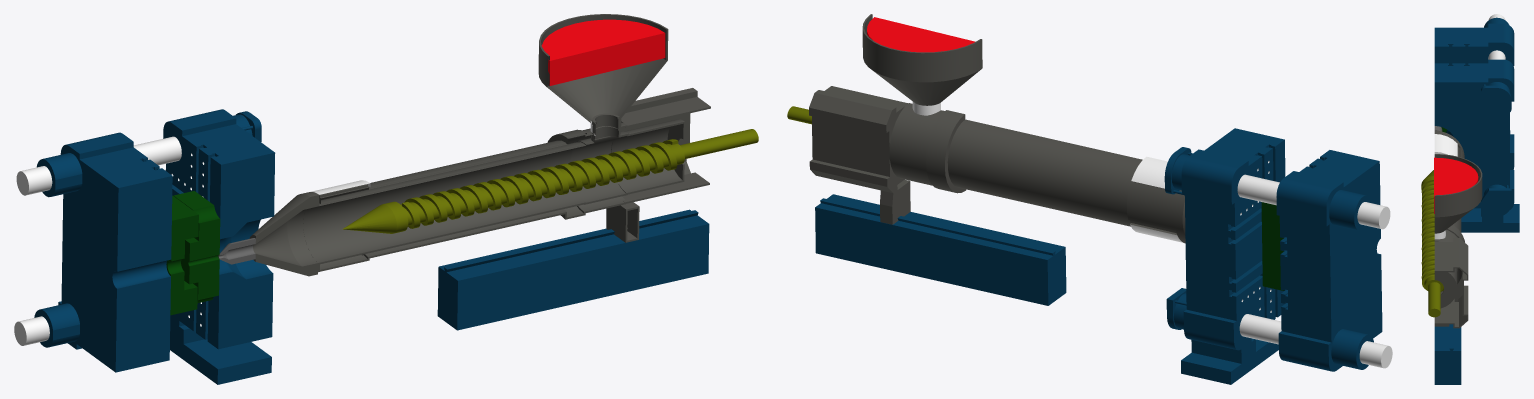
Rendered from animastiinjection01.glb.
The picture shows the model from 3 angles, left to right: view 1: azimuth 30°, elevation 25°; view 2: azimuth 150°, elevation 25°; view 3: azimuth 270°, elevation 25°; orthographic projection. The views are drawn at different scales.
Visible parts, largest first — view 1: 3DGeom-467, 3DGeom-302, 3DGeom-159, Body_1.003, Body_1.004, Cylinder, Body_1.006, Body_2.001, Body_1.005, Body_2, Body_3, Body_1.002 (+1 smaller); view 2: 3DGeom-467, 3DGeom-159, 3DGeom-302, Body_1.003, Cylinder, Body_3, Body_2, Body_1.006, 3DGeom-466; view 3: 3DGeom-159, 3DGeom-467, 3DGeom-302, Body_1.004, Body_1.003, Cylinder, 3DGeom-466, Body_2, Body_1.002.
Boxes of the visible parts, bbox=[...] form: 3DGeom-467: bbox=[303, 14, 710, 271]; 3DGeom-302: bbox=[34, 132, 172, 372]; 3DGeom-159: bbox=[163, 109, 275, 384]; Body_1.003: bbox=[437, 209, 709, 330]; Body_1.004: bbox=[342, 129, 758, 233]; Cylinder: bbox=[541, 19, 665, 85]; Body_1.006: bbox=[173, 191, 220, 302]; Body_2.001: bbox=[249, 194, 310, 276]; Body_1.005: bbox=[166, 195, 198, 315]; Body_2: bbox=[16, 136, 181, 195]; Body_3: bbox=[14, 316, 49, 345]; Body_1.002: bbox=[294, 192, 319, 276]; 3DGeom-467: bbox=[809, 14, 1177, 234]; 3DGeom-159: bbox=[1164, 128, 1285, 384]; 3DGeom-302: bbox=[1276, 150, 1382, 371]; Body_1.003: bbox=[815, 194, 1066, 305]; Cylinder: bbox=[867, 17, 975, 52]; Body_3: bbox=[1239, 314, 1392, 368]; Body_2: bbox=[1237, 174, 1390, 229]; Body_1.006: bbox=[1261, 202, 1283, 290]; 3DGeom-466: bbox=[1130, 156, 1183, 242]; 3DGeom-159: bbox=[1434, 59, 1519, 232]; 3DGeom-467: bbox=[1434, 146, 1482, 328]; 3DGeom-302: bbox=[1434, 17, 1514, 169]; Body_1.004: bbox=[1421, 170, 1443, 317]; Body_1.003: bbox=[1434, 324, 1461, 384]; Cylinder: bbox=[1434, 157, 1478, 213]; 3DGeom-466: bbox=[1434, 134, 1457, 156]; Body_2: bbox=[1488, 14, 1505, 59]; Body_1.002: bbox=[1434, 130, 1464, 157].
Bounding box in the file's own units: 2.29 × 0.8156 × 0.4105.
